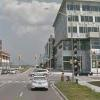Car: (24, 66, 52, 92)
